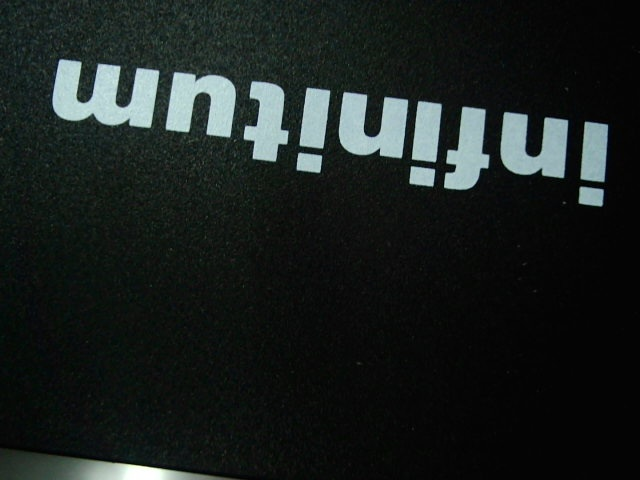BK_infinitum: (41, 52, 620, 213)
